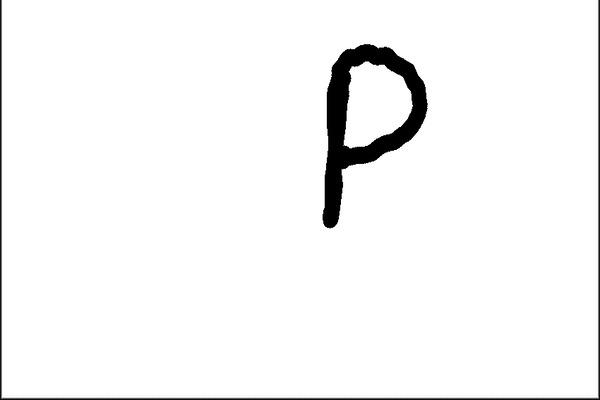P: (313, 26, 431, 241)
